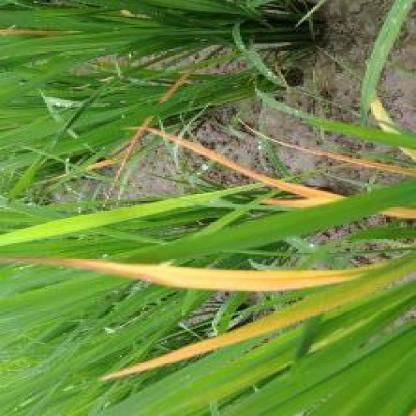Tungro: (103, 253, 416, 379), (139, 128, 416, 218), (1, 256, 381, 294)
